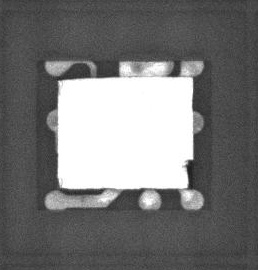DIE_BROKEN: (183, 157, 193, 189), (58, 77, 99, 83)
